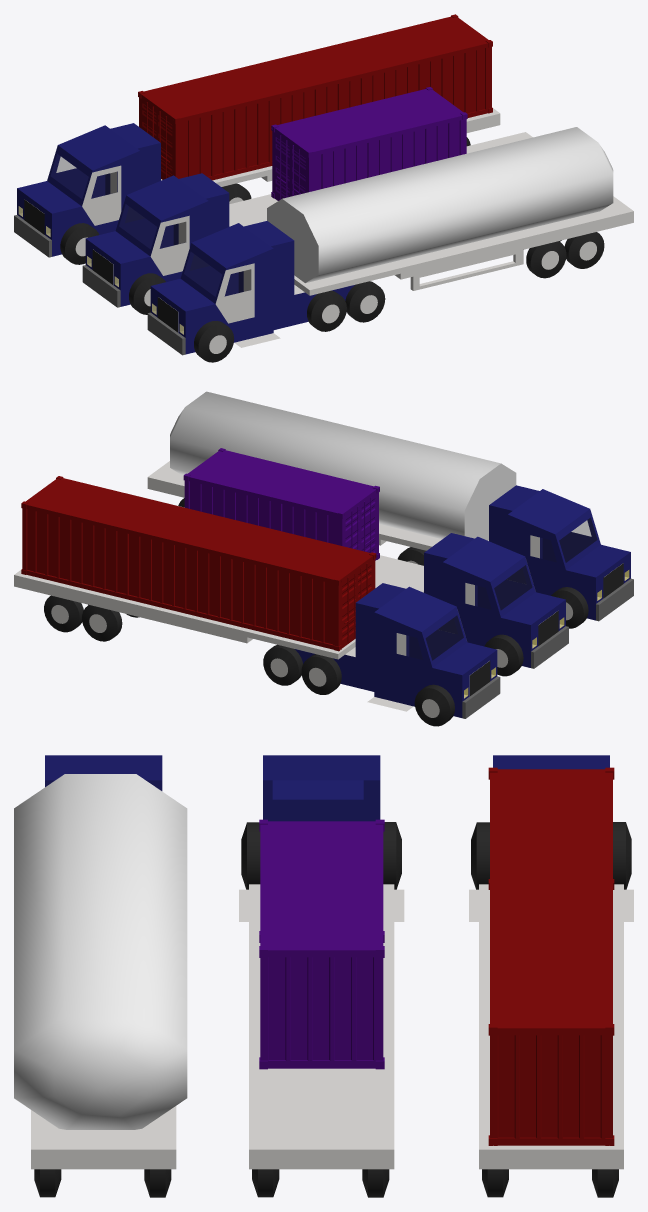
3 renders of one model, top to bottom at view 1: azimuth 30°, elevation 25°; view 2: azimuth 150°, elevation 25°; view 3: azimuth 270°, elevation 25°, orthographic. The views are drawn at different scales.
Parts seen in each view (by area): view 1: Silo_001, Shipping container 40'_001, Semi truck and trailer_005, Shipping container 20'_001, Semi truck and trailer_003, Semi truck and trailer_001, TireSemi_021, TireSemi_027, TireSemi_022, Group_001, TireSemi_030, TireSemi_023 (+2 smaller); view 2: Shipping container 40'_001, Silo_001, Semi truck and trailer_001, Semi truck and trailer_005, Semi truck and trailer_003, Shipping container 20'_001, TireSemi_006, TireSemi_008, TireSemi_004, TireSemi_009, TireSemi_005, TireSemi_016 (+1 smaller); view 3: Silo_001, Shipping container 40'_001, Shipping container 20'_001, Semi truck and trailer_003, Semi truck and trailer_001, Semi truck and trailer_005, TireSemi_011, TireSemi_001, TireSemi_016, TireSemi_006, TireSemi_025, TireSemi_015 (+4 smaller).
Boxes of the visible parts, left/top/right/bottom form: Silo_001: left=267, top=127, right=613, bottom=283; Shipping container 40'_001: left=138, top=14, right=492, bottom=180; Semi truck and trailer_005: left=147, top=196, right=633, bottom=355; Shipping container 20'_001: left=271, top=87, right=467, bottom=200; Semi truck and trailer_003: left=82, top=132, right=532, bottom=307; Semi truck and trailer_001: left=14, top=108, right=500, bottom=257; TireSemi_021: left=194, top=321, right=233, bottom=362; TireSemi_027: left=307, top=290, right=346, bottom=331; TireSemi_022: left=345, top=281, right=385, bottom=322; Group_001: left=410, top=249, right=523, bottom=290; TireSemi_030: left=526, top=241, right=566, bottom=278; TireSemi_023: left=564, top=232, right=604, bottom=268; Shipping container 40'_001: left=21, top=476, right=376, bottom=651; Silo_001: left=170, top=391, right=516, bottom=540; Semi truck and trailer_001: left=14, top=569, right=500, bottom=718; Semi truck and trailer_005: left=147, top=461, right=633, bottom=621; Semi truck and trailer_003: left=128, top=493, right=568, bottom=668; Shipping container 20'_001: left=183, top=448, right=379, bottom=560; TireSemi_006: left=414, top=684, right=454, bottom=726; TireSemi_008: left=301, top=654, right=341, bottom=694; TireSemi_004: left=263, top=644, right=302, bottom=685; TireSemi_009: left=82, top=605, right=122, bottom=641; TireSemi_005: left=44, top=595, right=83, bottom=632; TireSemi_016: left=484, top=634, right=523, bottom=676; Silo_001: left=14, top=774, right=187, bottom=1129; Shipping container 40'_001: left=488, top=767, right=614, bottom=1145; Shipping container 20'_001: left=259, top=819, right=384, bottom=1069; Semi truck and trailer_003: left=239, top=755, right=404, bottom=1169; Semi truck and trailer_001: left=469, top=755, right=633, bottom=1169; Semi truck and trailer_005: left=31, top=755, right=176, bottom=1169; TireSemi_011: left=241, top=822, right=260, bottom=889; TireSemi_001: left=471, top=822, right=489, bottom=889; TireSemi_016: left=383, top=822, right=401, bottom=889; TireSemi_006: left=613, top=822, right=631, bottom=889; TireSemi_025: left=144, top=1169, right=171, bottom=1197; TireSemi_015: left=362, top=1169, right=389, bottom=1197.
Bounding box in the file's own units: 17188 × 4392 × 12301.
